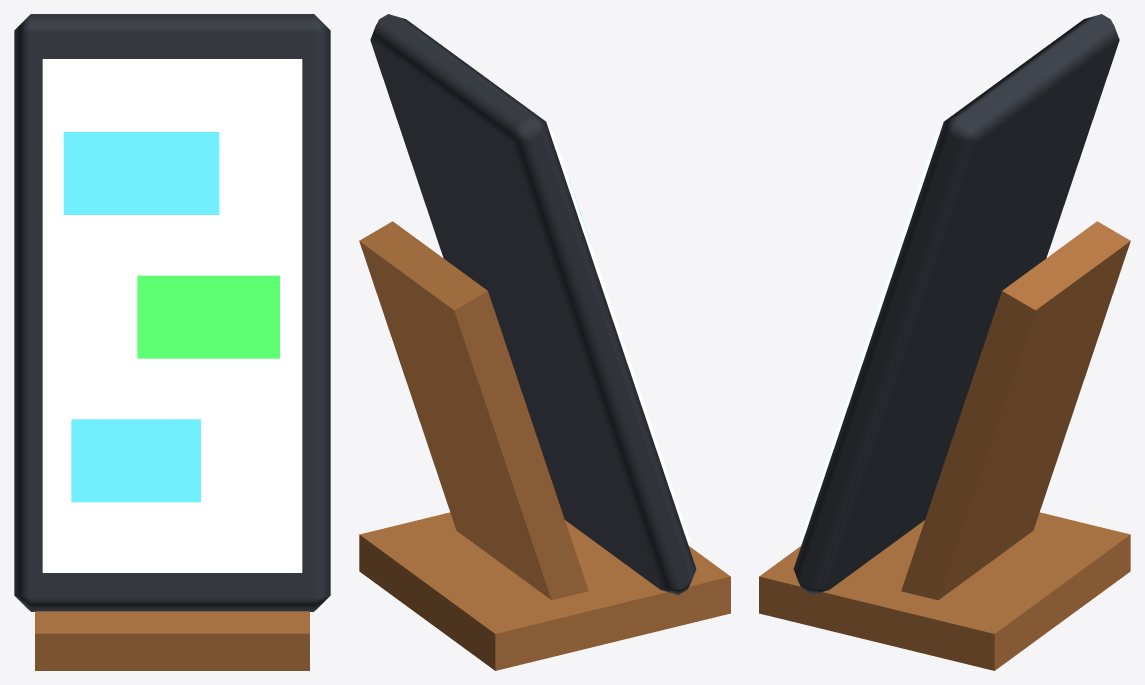
Rendered from station_special_ausstattung_1_1.glb.
The picture shows the model from 3 angles, left to right: view 1: azimuth 30°, elevation 25°; view 2: azimuth 150°, elevation 25°; view 3: azimuth 270°, elevation 25°; orthographic projection.
Visible parts, largest first — view 1: station_special_ausstattung_1_1; view 2: station_special_ausstattung_1_1; view 3: station_special_ausstattung_1_1.
Part boxes in pixels (x1=…): station_special_ausstattung_1_1: x1=14, y1=14, x2=330, y2=670; station_special_ausstattung_1_1: x1=359, y1=14, x2=730, y2=670; station_special_ausstattung_1_1: x1=759, y1=14, x2=1130, y2=670.
Size of the model in its own units: 0.1375 by 0.2225 by 0.1367.
